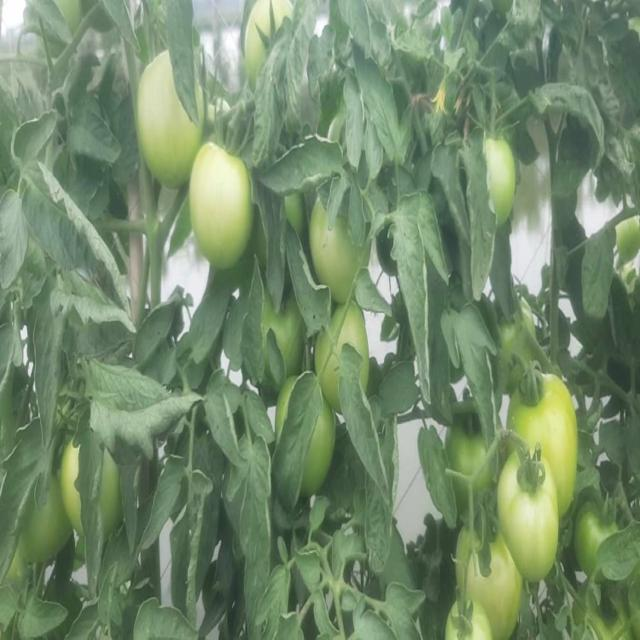tomato: (138, 46, 203, 180), (512, 374, 578, 505), (195, 138, 258, 266), (500, 448, 557, 577), (463, 524, 524, 637), (314, 185, 362, 297), (313, 300, 365, 400), (246, 1, 293, 75), (57, 445, 88, 542), (27, 494, 69, 565), (453, 426, 491, 497), (482, 134, 515, 215), (581, 502, 615, 580), (306, 410, 333, 495), (441, 599, 495, 640), (276, 309, 304, 374), (615, 215, 640, 269)
